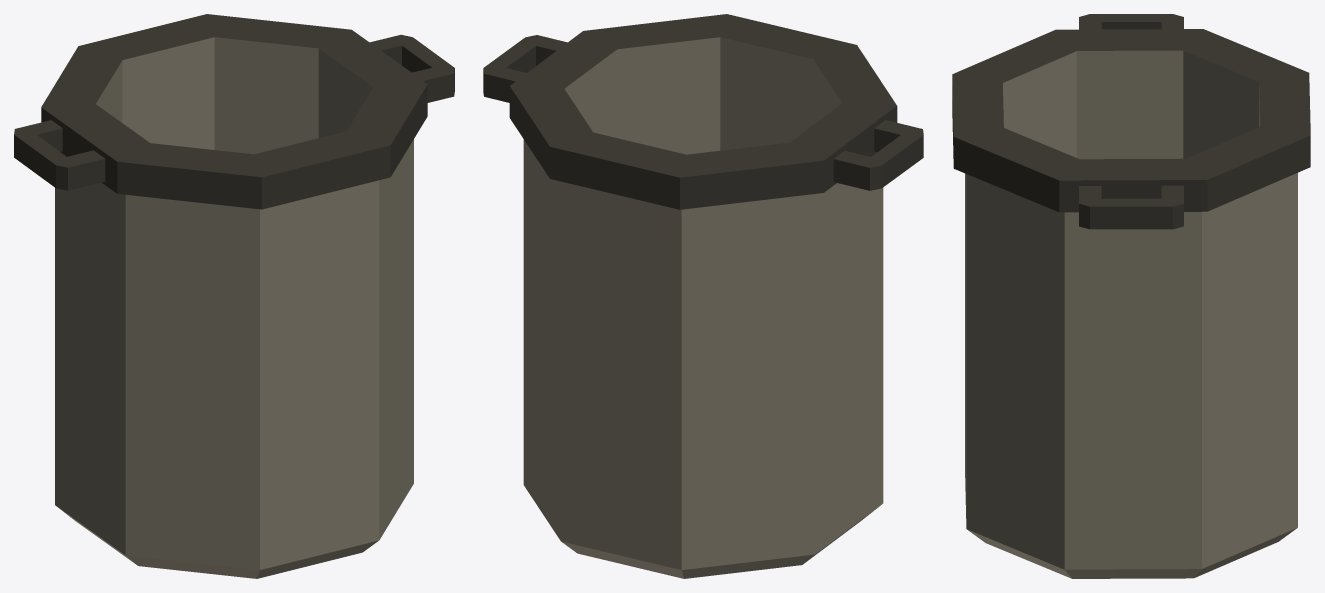
The model's file is pot(2).fbx.
The picture shows the model from 3 angles, left to right: view 1: azimuth 30°, elevation 25°; view 2: azimuth 150°, elevation 25°; view 3: azimuth 270°, elevation 25°; orthographic projection.
Visible parts, largest first — view 1: pot(2); view 2: pot(2); view 3: pot(2).
Boxes of the visible parts, box(x1,y1,x2,y2) form: pot(2): box(14, 14, 454, 578); pot(2): box(483, 14, 923, 578); pot(2): box(952, 14, 1310, 578).
Size of the model in its own units: 55.74 by 55.57 by 43.84.
